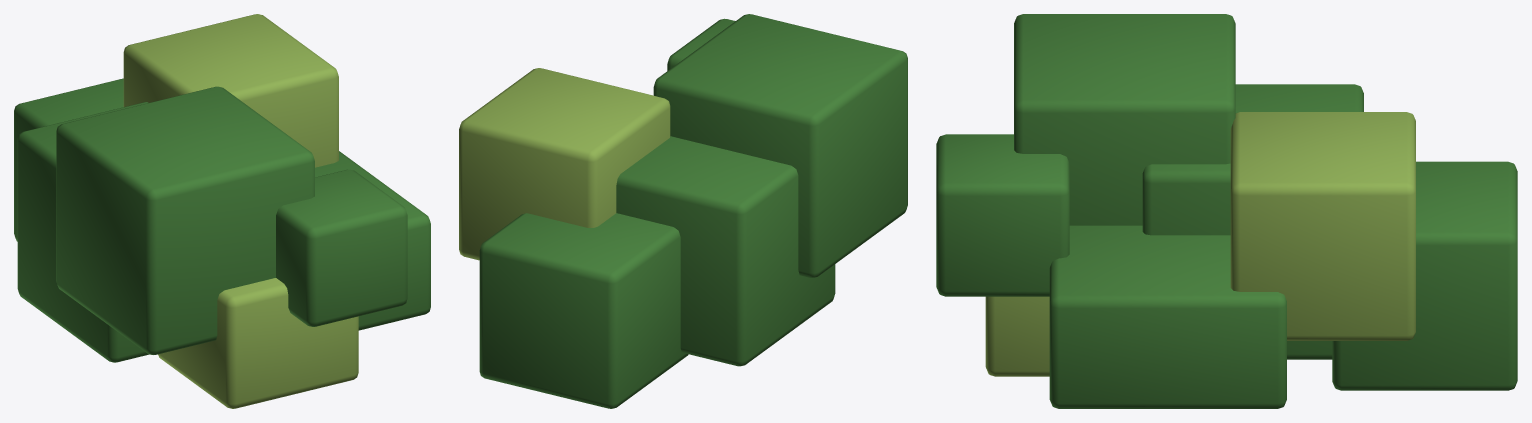
The model's file is Bush.fbx.
3 views of the same model, side by side, from view 1: azimuth 30°, elevation 25°; view 2: azimuth 150°, elevation 25°; view 3: azimuth 270°, elevation 25° (orthographic). The views are drawn at different scales.
Visible parts, largest first — view 1: Bush; view 2: Bush; view 3: Bush.
Boxes of the visible parts, bbox=[...] form: Bush: bbox=[14, 14, 430, 408]; Bush: bbox=[459, 14, 907, 408]; Bush: bbox=[936, 14, 1517, 408].
Bounding box in the file's own units: 286 × 209 × 421.
